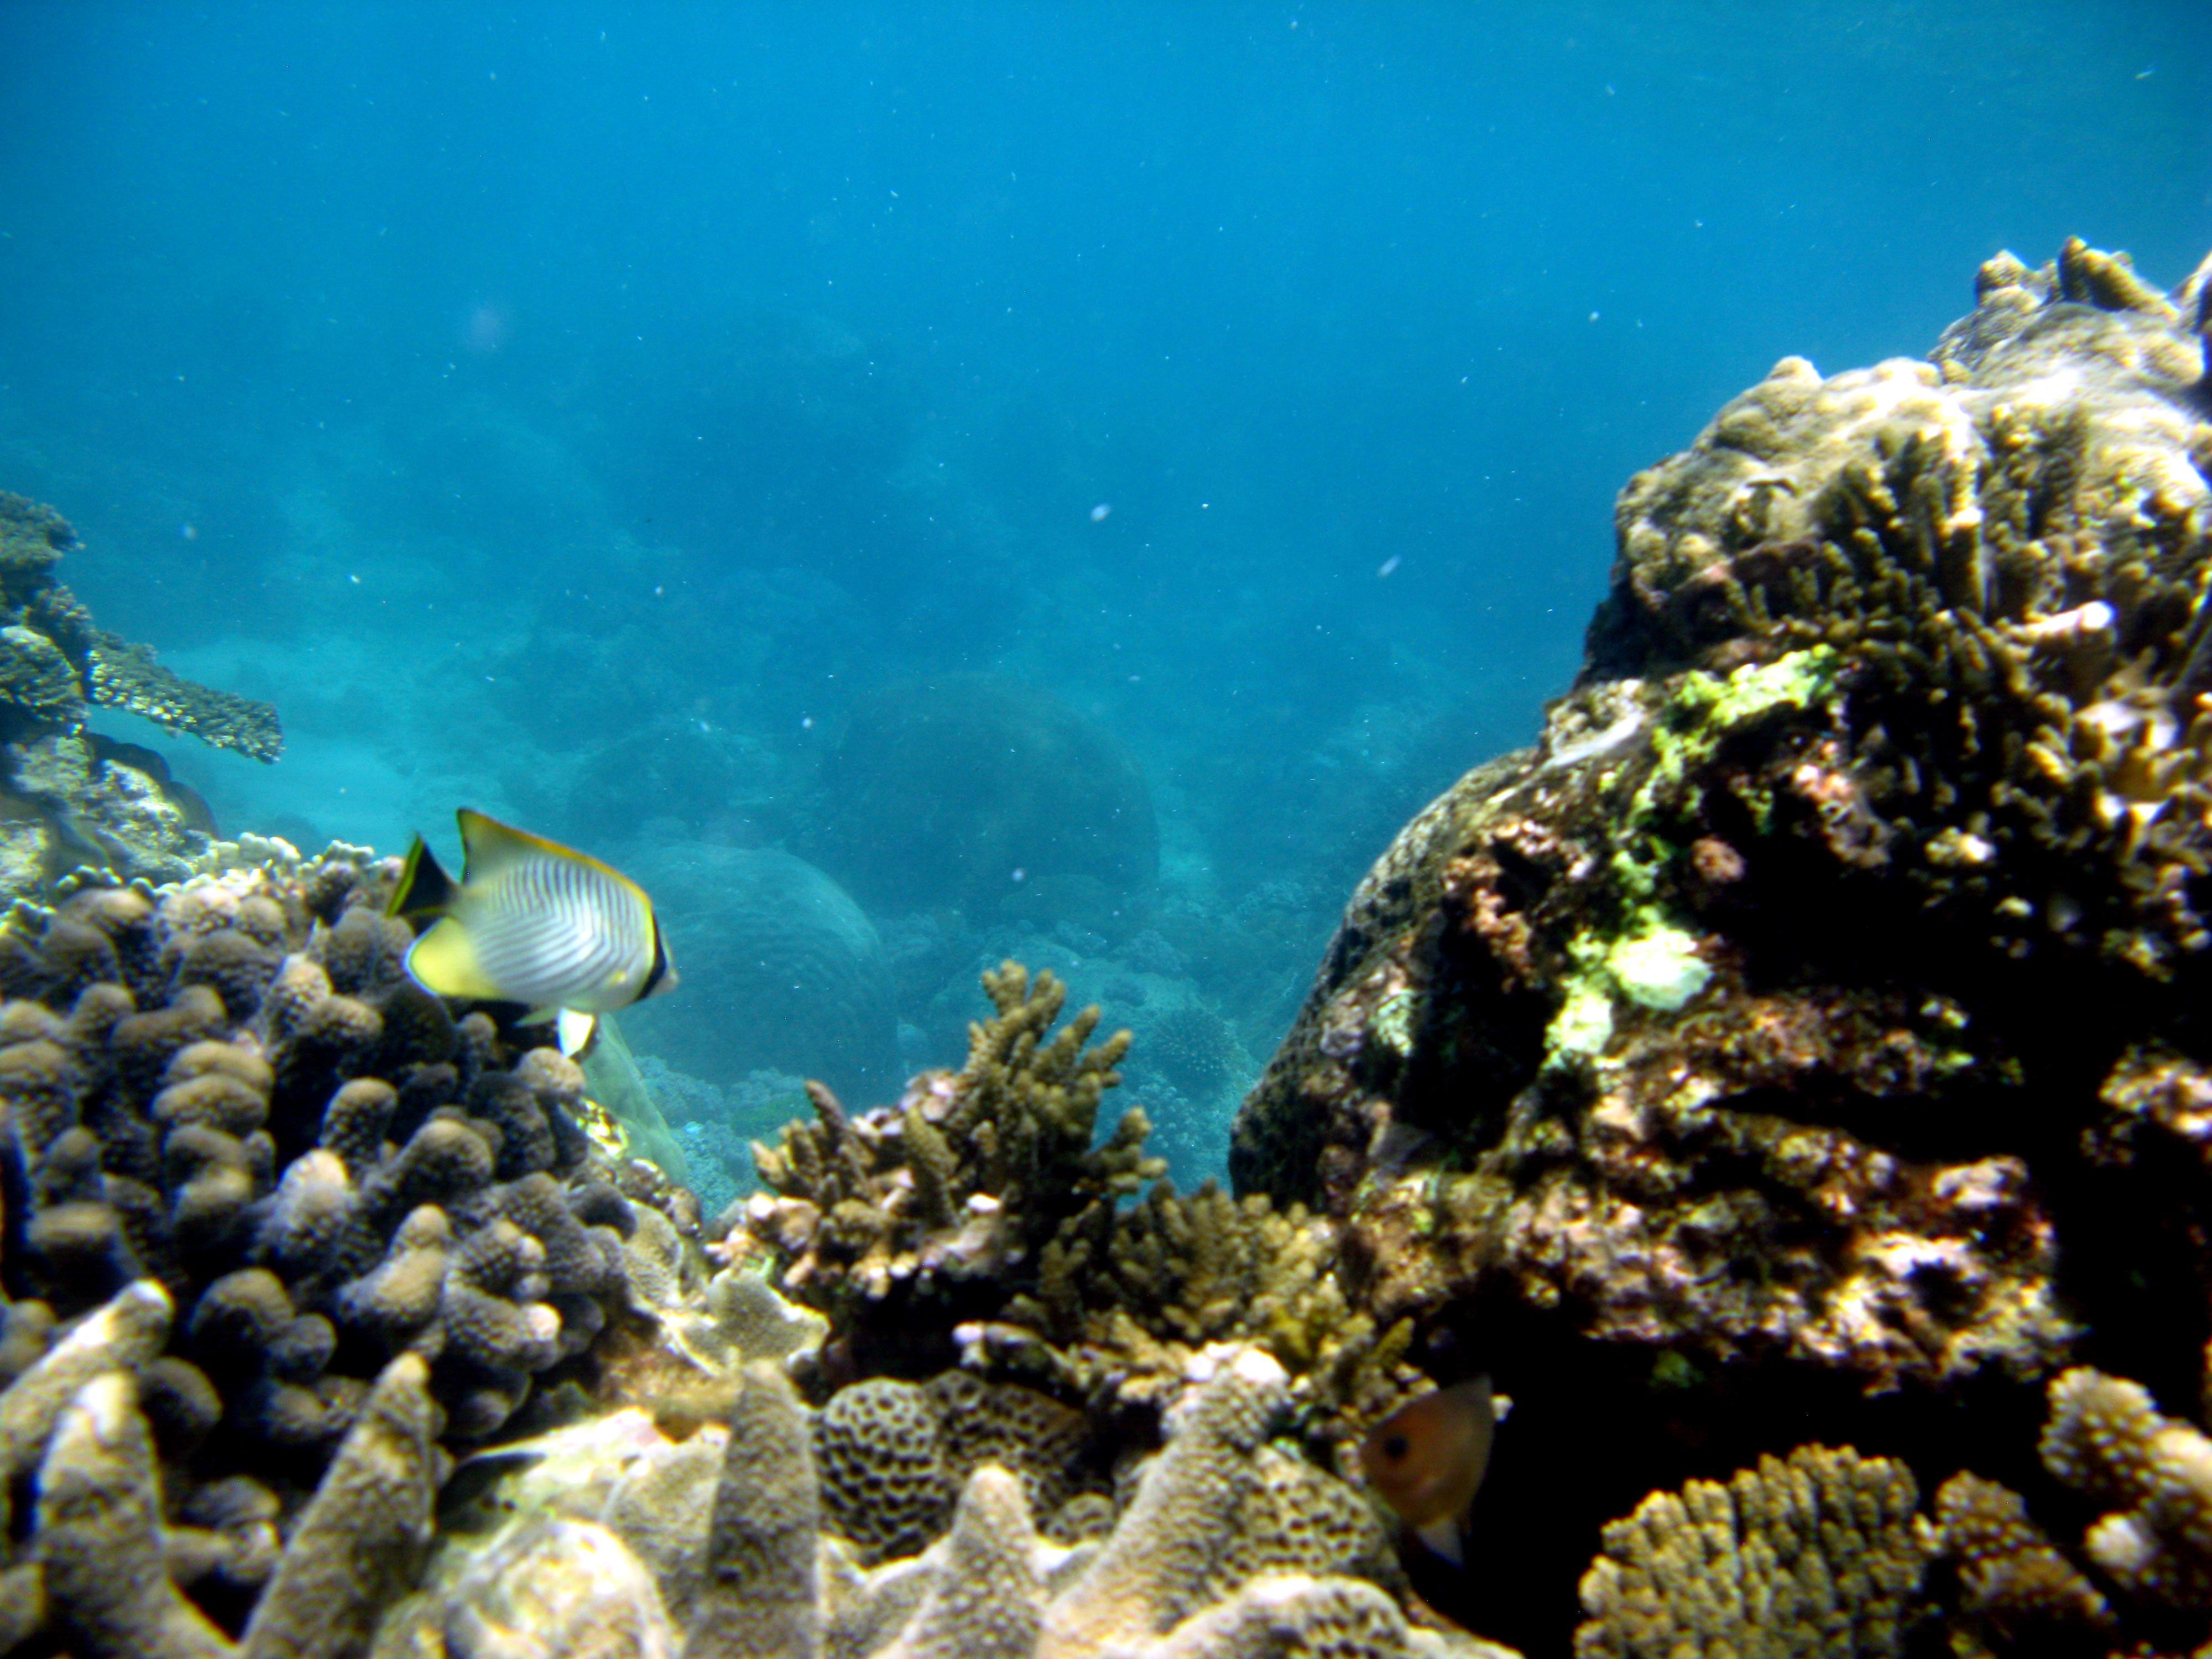Fish: (362, 791, 698, 1065)
